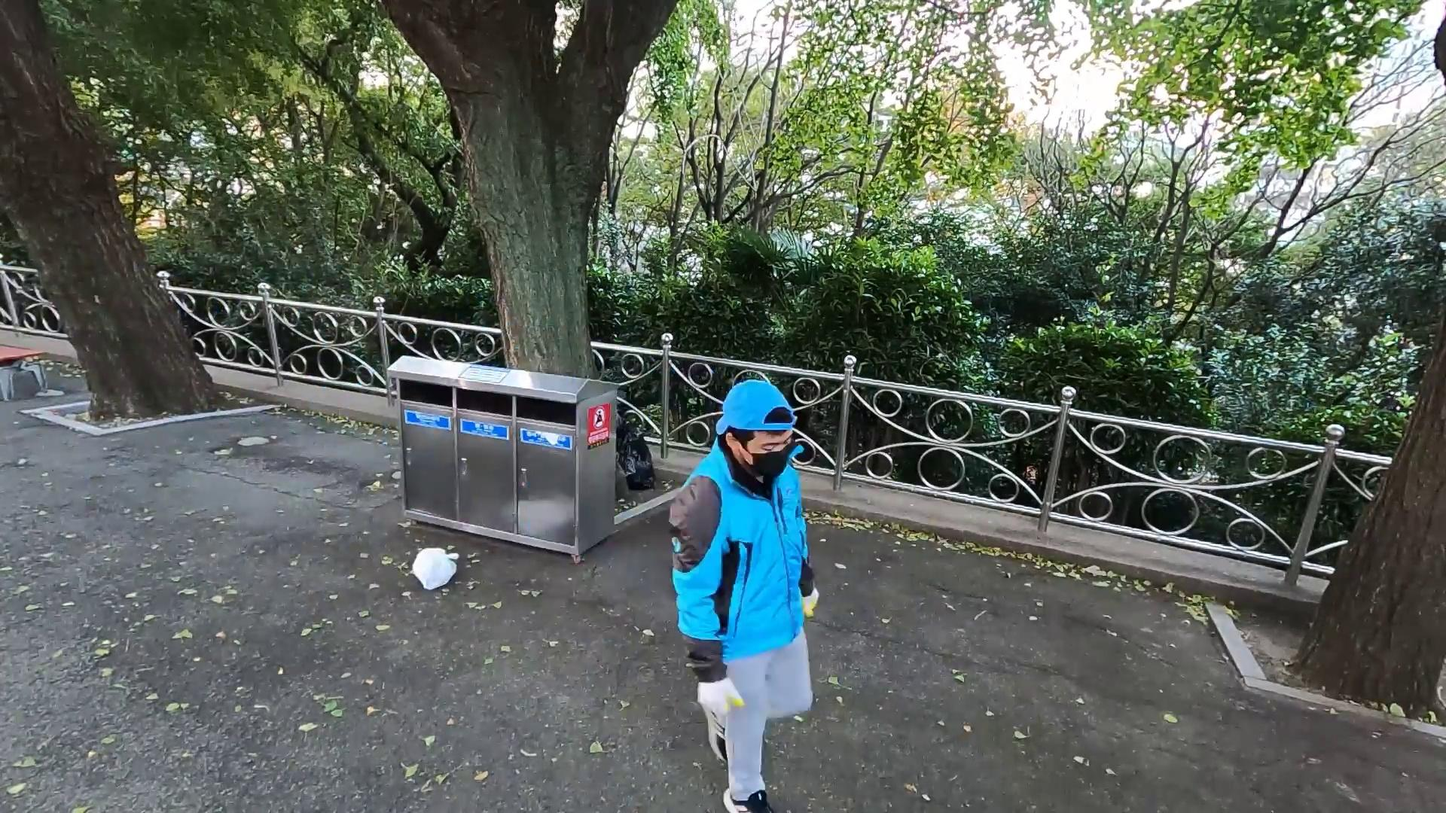person: (662, 378, 827, 813)
trash: (411, 543, 460, 590)
